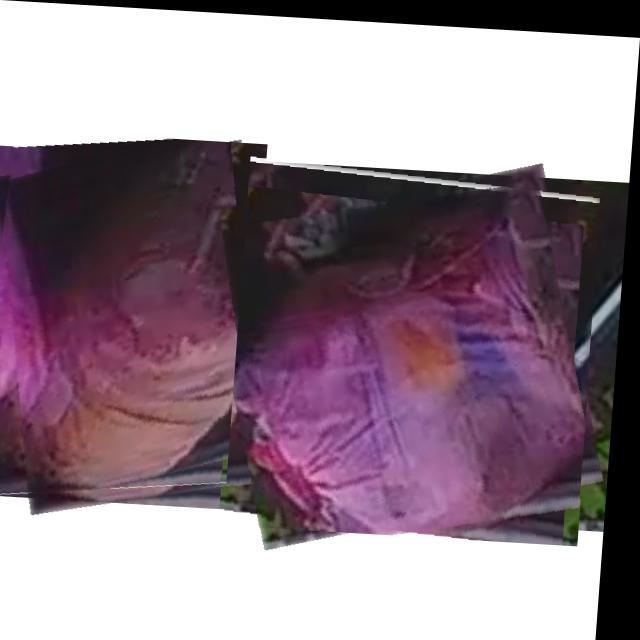other_trashbag: (240, 176, 592, 529), (10, 137, 266, 490)
